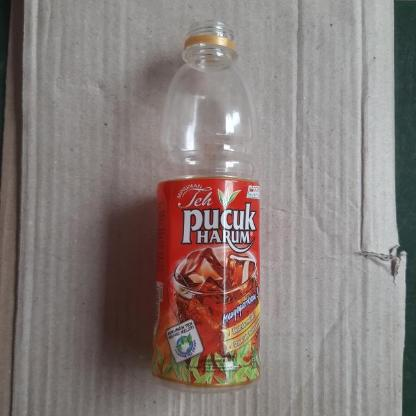Plastic Bottle: (154, 19, 260, 391)
